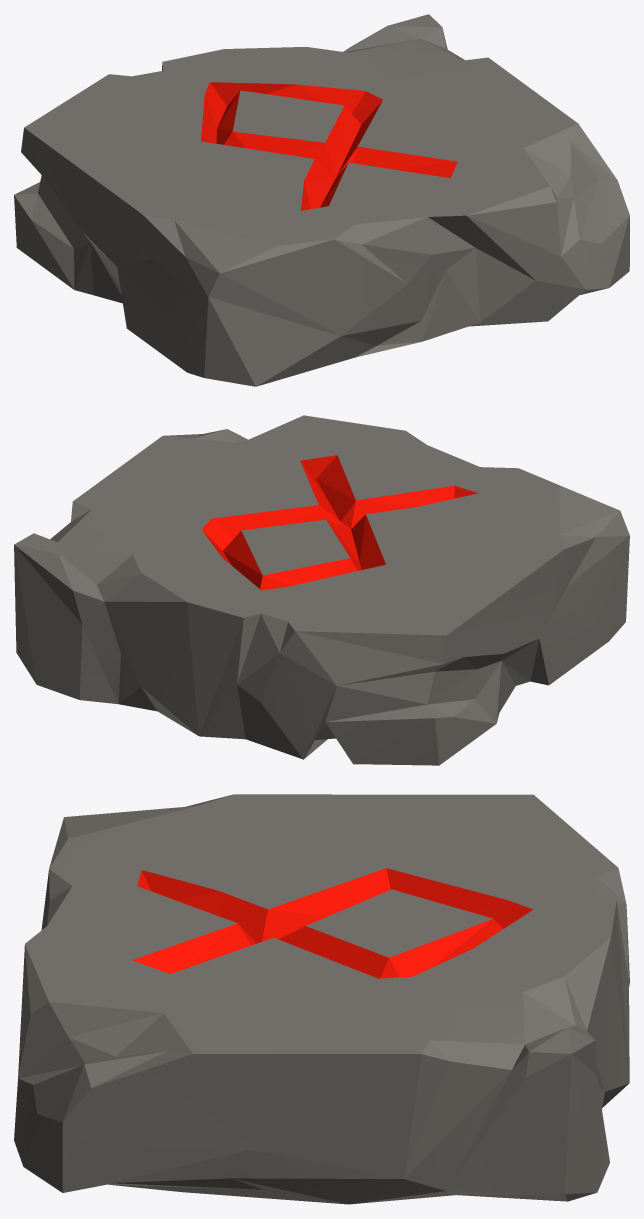
Rendered from SM_Env_Rune_Square_03.obj.
3 renders of one model, top to bottom at view 1: azimuth 30°, elevation 25°; view 2: azimuth 150°, elevation 25°; view 3: azimuth 270°, elevation 25°, orthographic. The views are drawn at different scales.
Visible parts, largest first — view 1: SM_Env_Rune_Square_03; view 2: SM_Env_Rune_Square_03; view 3: SM_Env_Rune_Square_03.
Part boxes in pixels (box(x1,y1,x2,y2)): SM_Env_Rune_Square_03: box(14, 14, 629, 386); SM_Env_Rune_Square_03: box(14, 415, 629, 765); SM_Env_Rune_Square_03: box(14, 794, 629, 1204).
Bounding box in the file's own units: 0.5624 × 0.1605 × 0.5638.
